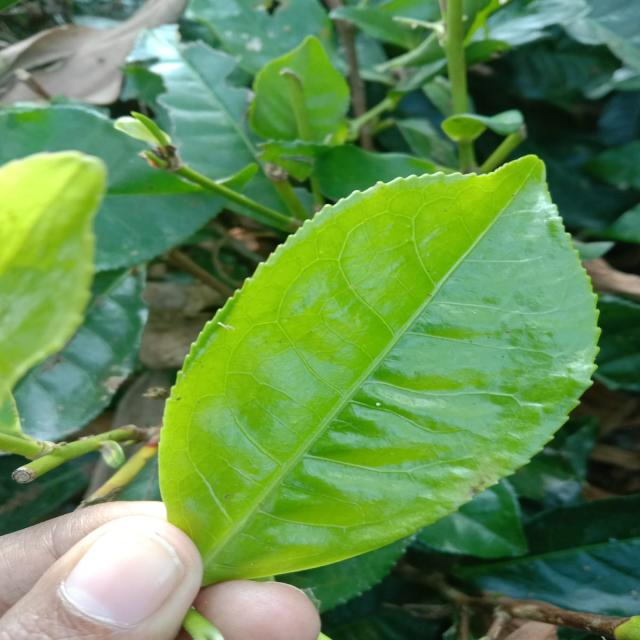Category B(2-4 days): (129, 138, 612, 591)
